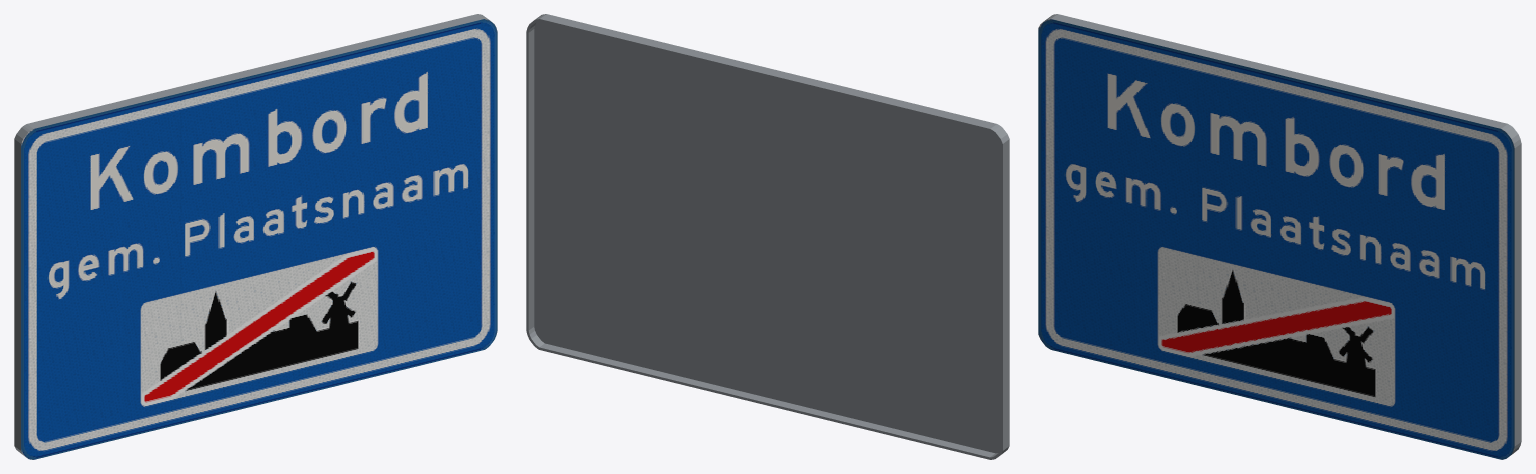
3 views of the same model, side by side, from view 1: azimuth 30°, elevation 25°; view 2: azimuth 150°, elevation 25°; view 3: azimuth 330°, elevation 25° (orthographic).
Visible parts, largest first — view 1: cat_7327905efe53b003; view 2: cat_7327905efe53b003; view 3: cat_7327905efe53b003.
Part boxes in pixels (left/top/right/bottom): cat_7327905efe53b003: left=14, top=14, right=497, bottom=459; cat_7327905efe53b003: left=526, top=14, right=1009, bottom=459; cat_7327905efe53b003: left=1038, top=14, right=1521, bottom=459.
Bounding box in the file's own units: 0.6 × 0.015 × 0.3983.
Materials: 2 (1 with a texture image).
